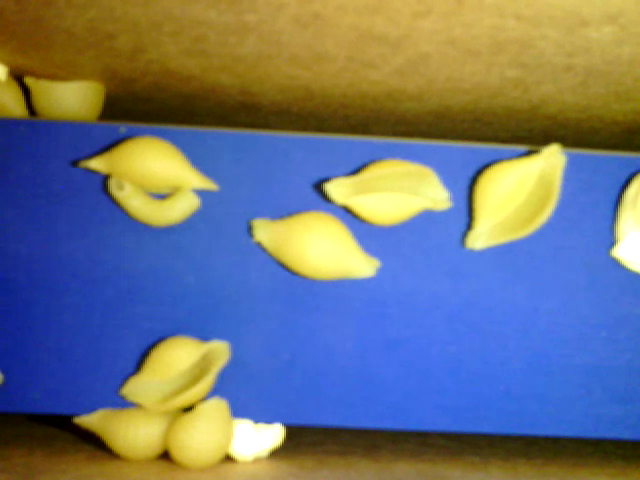elbow: (105, 177, 205, 229)
shell: (463, 141, 570, 253), (317, 156, 455, 227), (251, 208, 383, 280), (72, 131, 222, 194), (120, 337, 231, 412), (69, 409, 199, 462), (164, 395, 231, 469), (24, 77, 107, 124)
